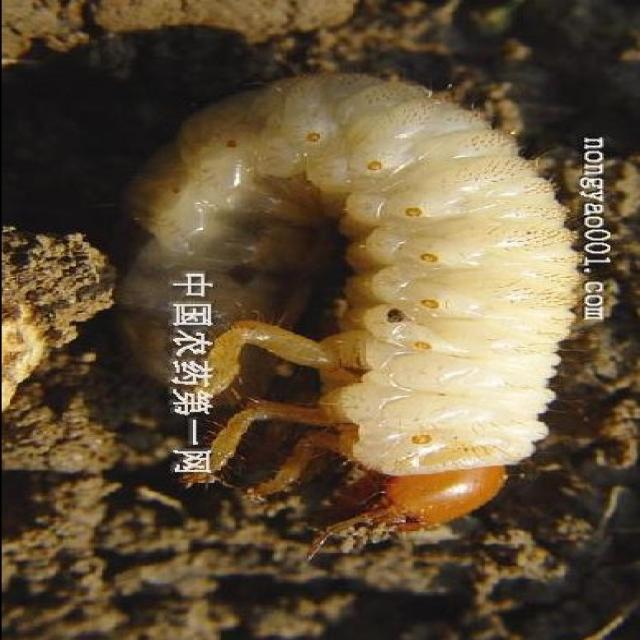grub: (113, 66, 595, 533)
